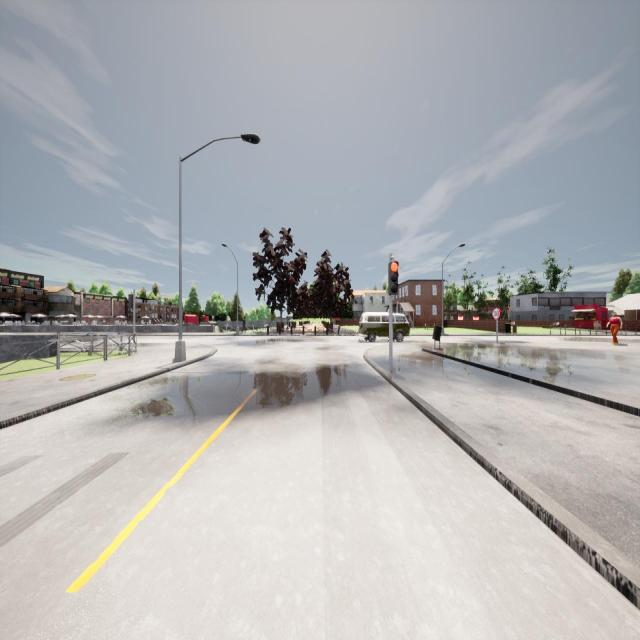Pedestrian: (606, 312, 623, 345), (241, 316, 247, 334)
Traffic_Signs: (492, 308, 502, 320)
Vehicle: (358, 312, 410, 342)
traffic_light: (389, 261, 398, 295), (128, 294, 134, 309)
